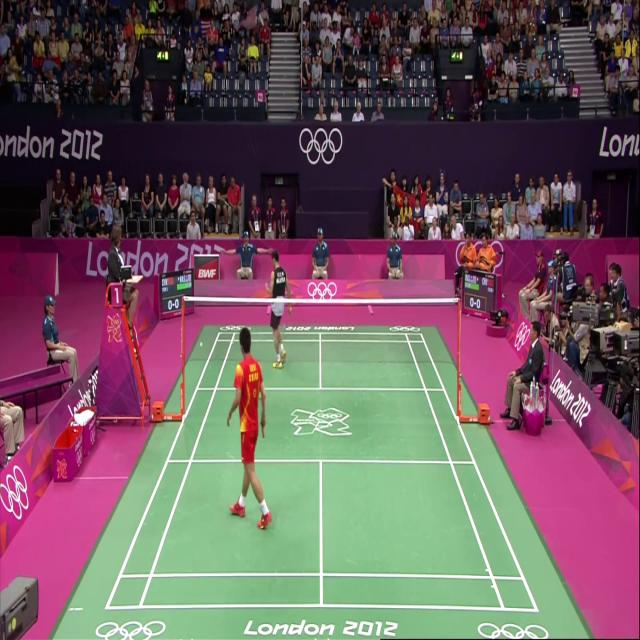Net: (180, 294, 461, 369)
Player1: (218, 332, 286, 548)
Player2: (262, 250, 301, 370)
Shuttlecock: (197, 335, 207, 353)
